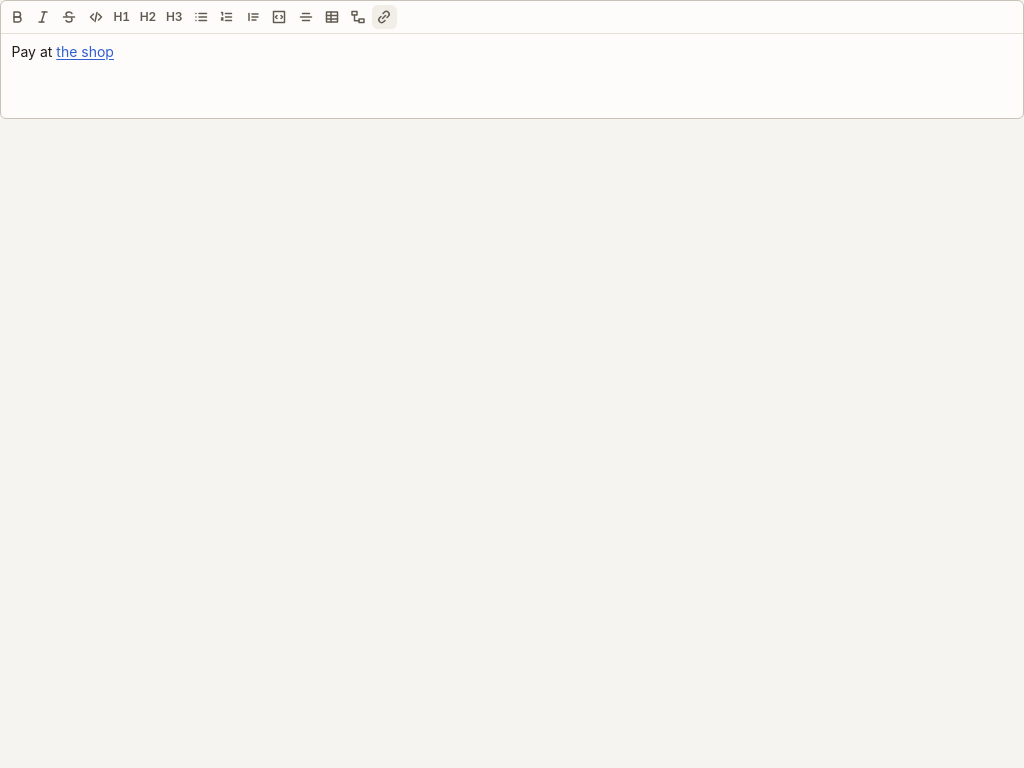
the link dialog › opens with the address of the link the caret is in
Check: the button named "Bold" is shown, box [4,4,29,29]
Click the button named "Link": (384, 17) [372,4,396,29]
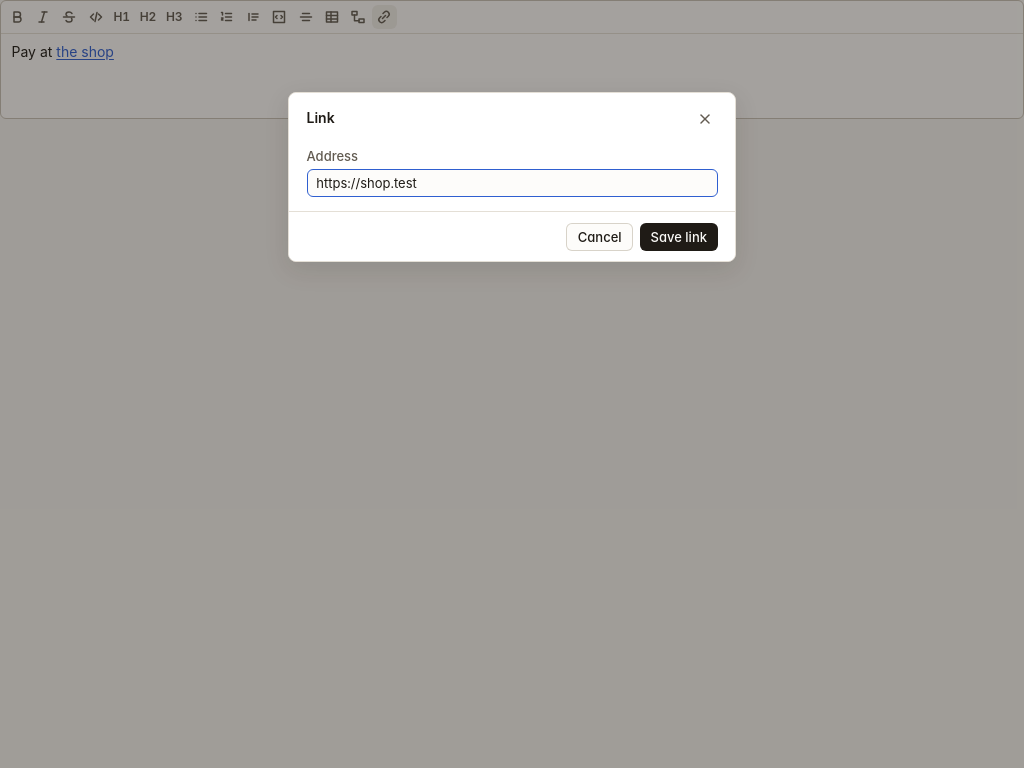
Check: the field labelled "Address" holds "https://shop.test", box [306,169,718,197]
